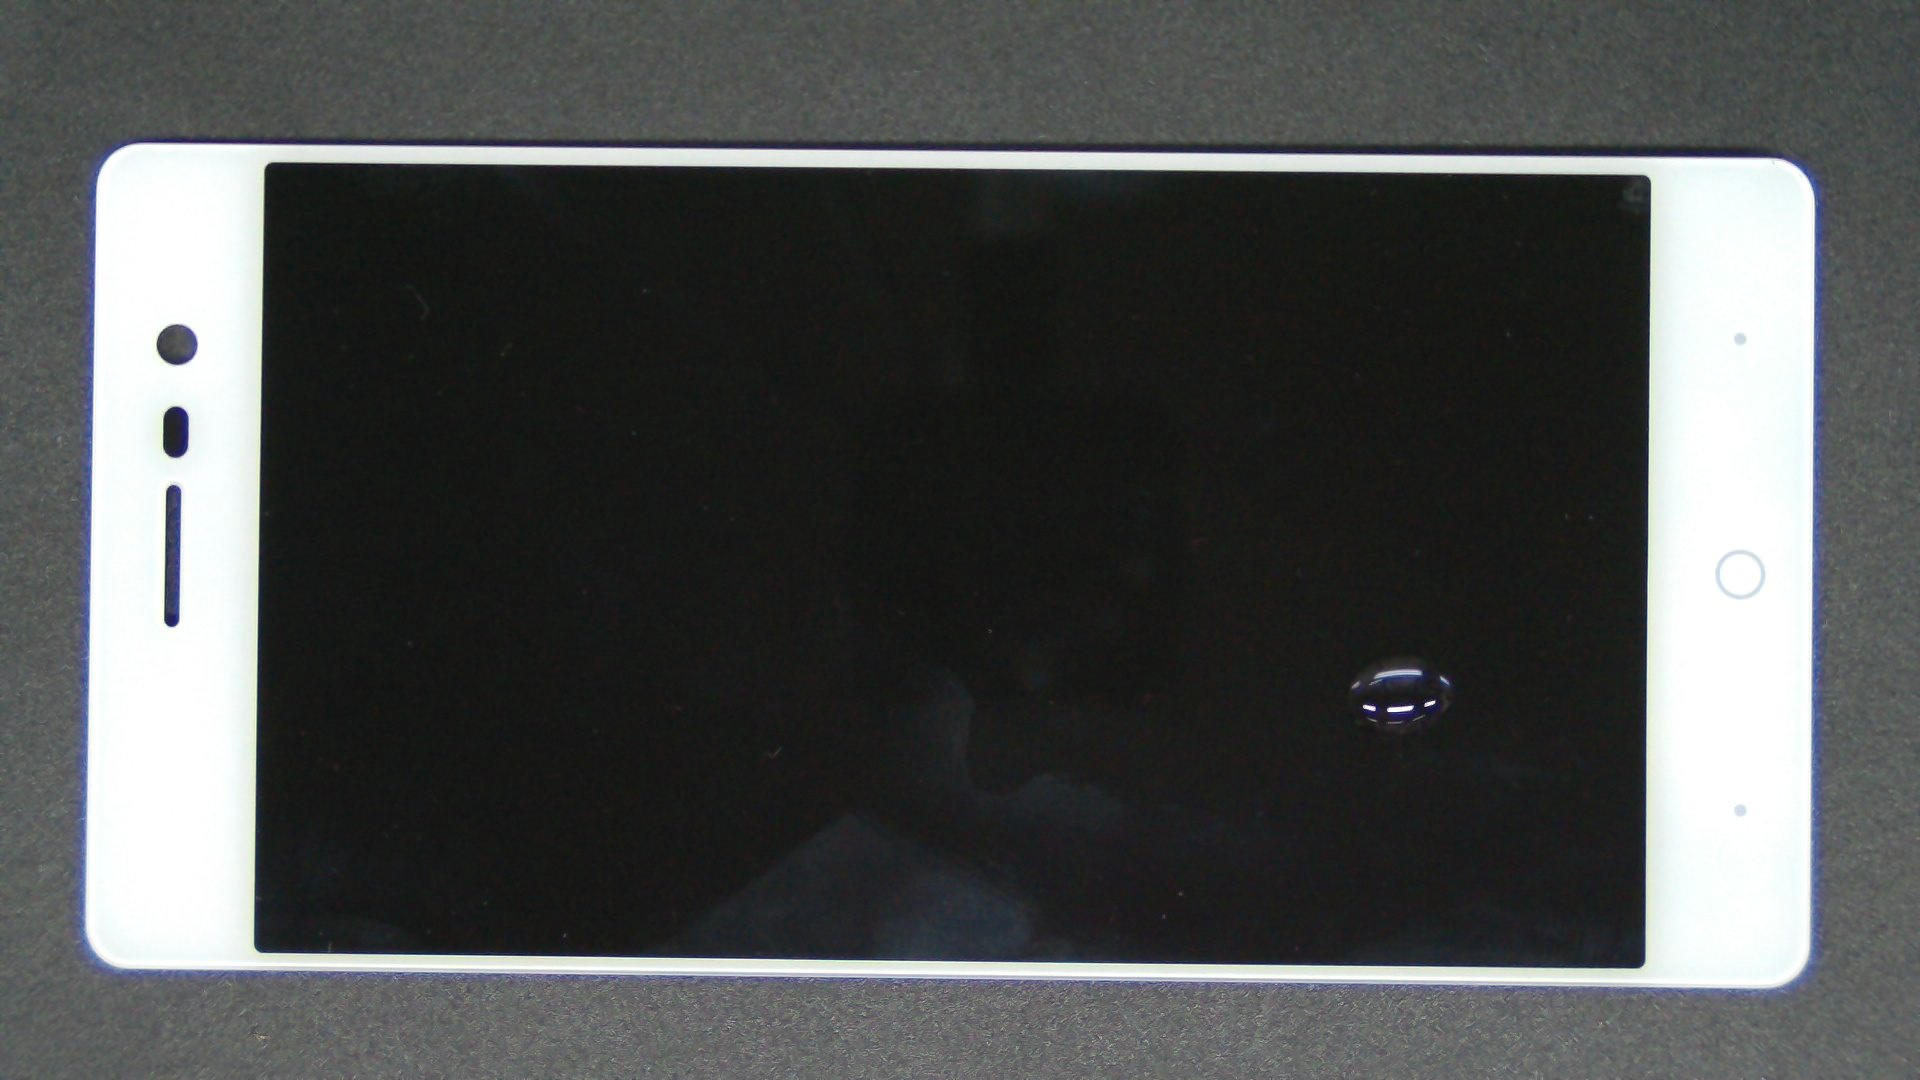oil: (704, 327, 1920, 985)
